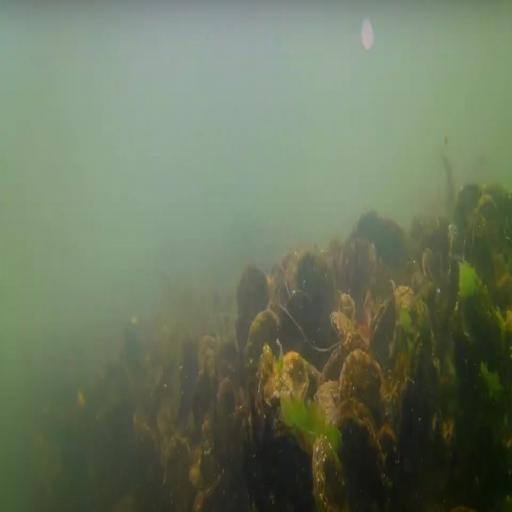Oyster-Closed: (340, 354, 382, 417), (247, 305, 280, 381), (253, 347, 275, 449), (238, 274, 268, 335), (318, 380, 341, 428)
Oyster-Open: (328, 403, 385, 512), (314, 436, 356, 512), (262, 350, 312, 413), (370, 301, 396, 346), (230, 399, 251, 430), (242, 410, 255, 458), (332, 310, 355, 336)
